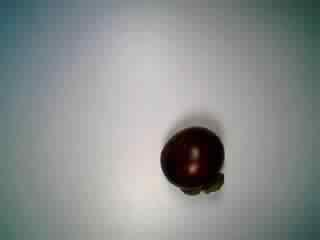mangosteen: (151, 124, 226, 199)
